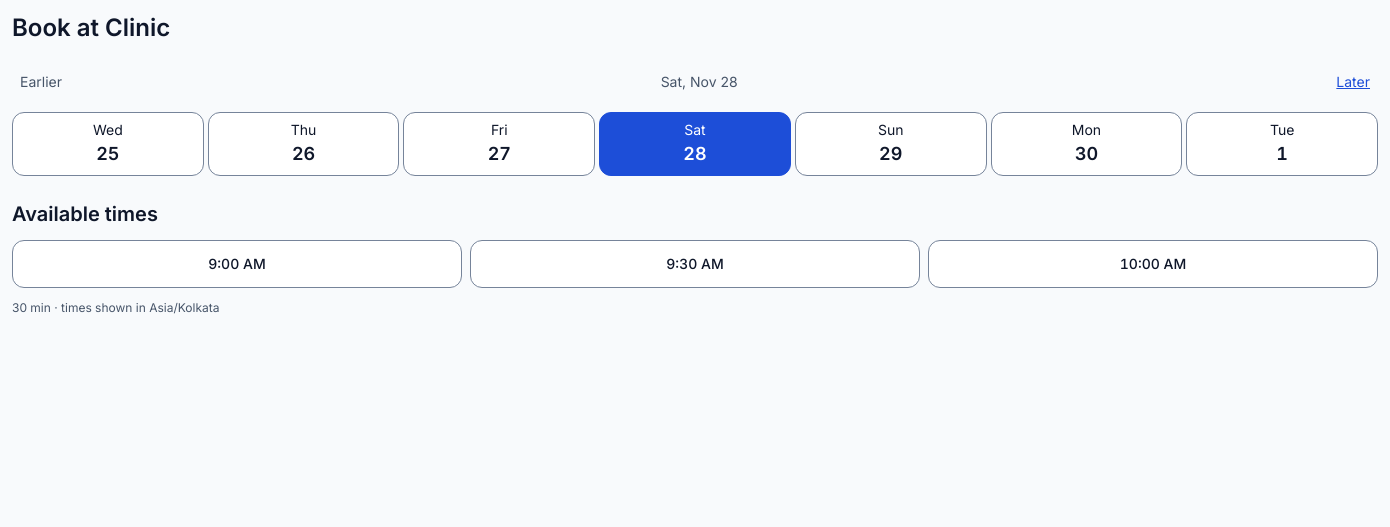
BookingFlow › on SLOT_TAKEN keeps the service and date, offers next_slots, and books one
Click the radio button labelled "9:00 AM" at (237, 264), box top-left (12, 240), bottom-right (462, 288)
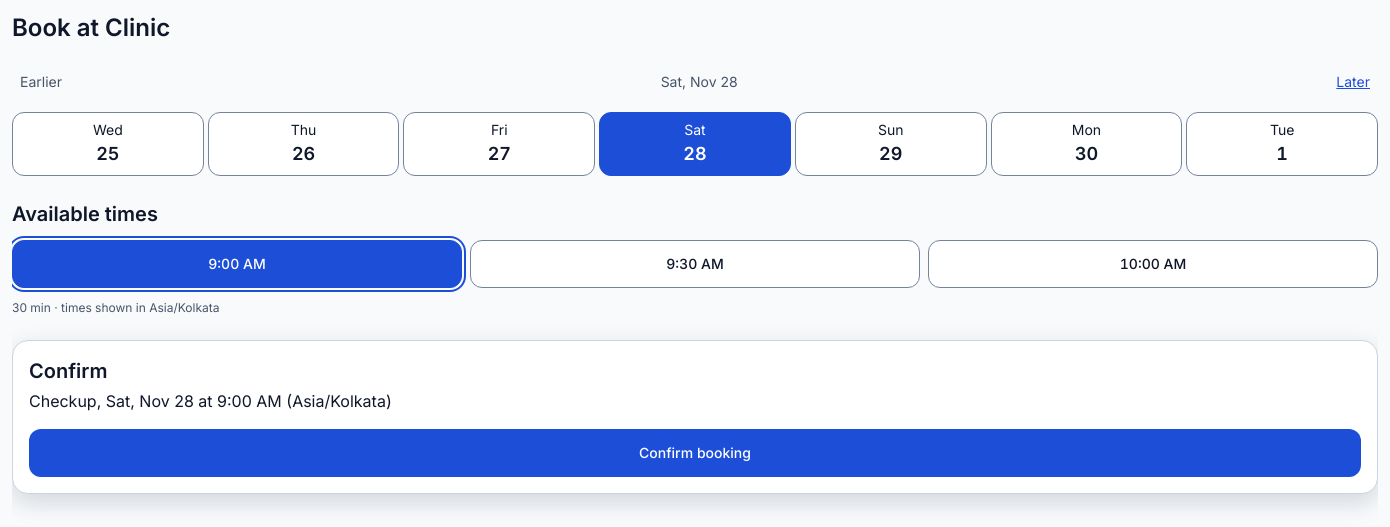
Click the button "Confirm booking" at (695, 453), box top-left (29, 429), bottom-right (1361, 477)
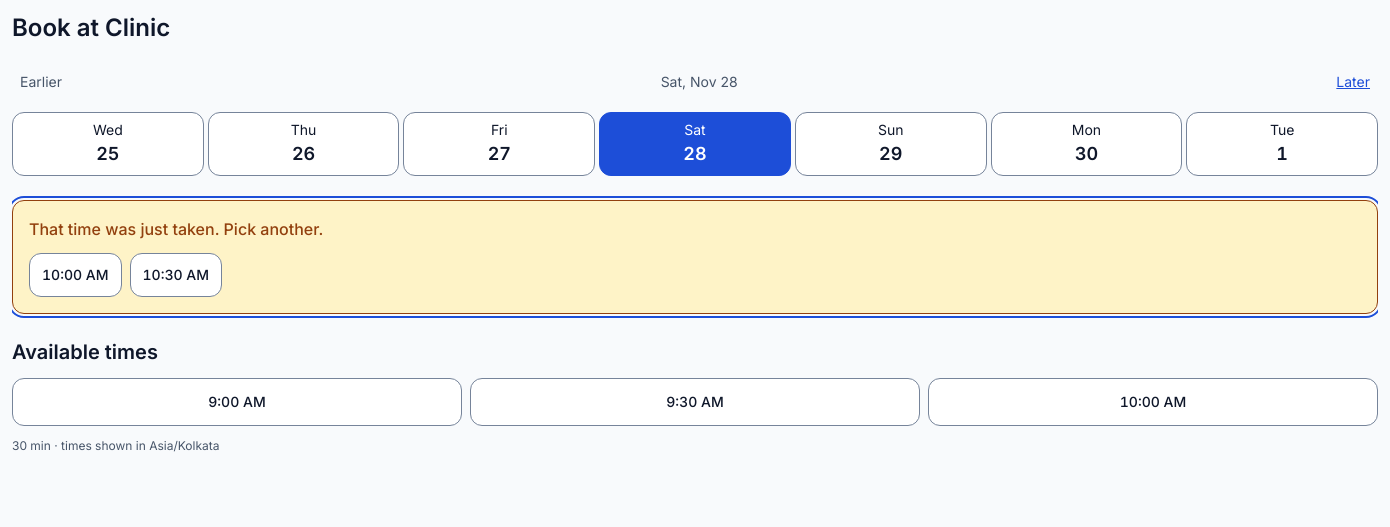
Click the button "10:30 AM" at (176, 275), box top-left (130, 253), bottom-right (222, 297)
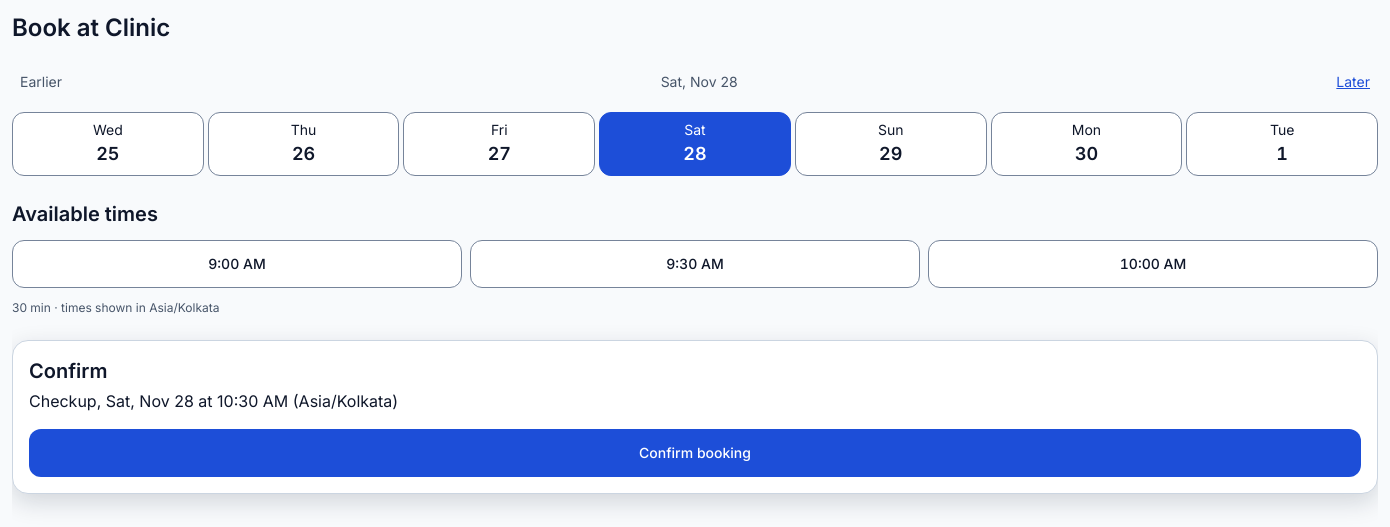
Click the button "Confirm booking" at (695, 453), box top-left (29, 429), bottom-right (1361, 477)
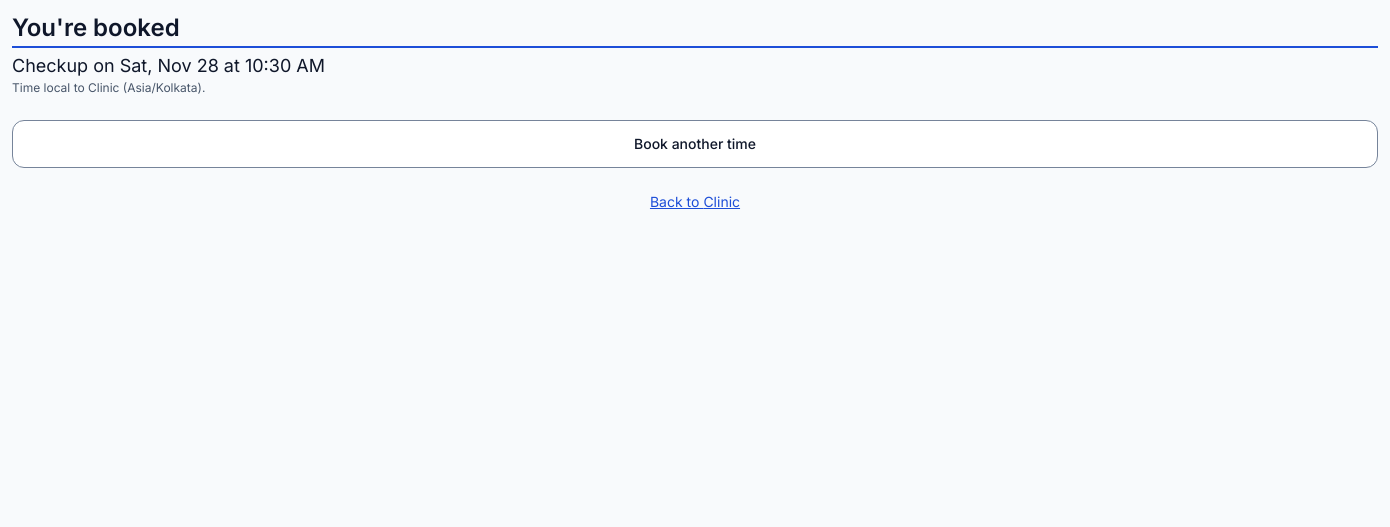
Now the heading "You're booked" is shown, box top-left (12, 13), bottom-right (180, 42)
